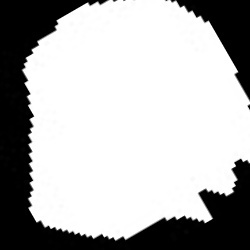spot: (25, 0, 249, 241)
